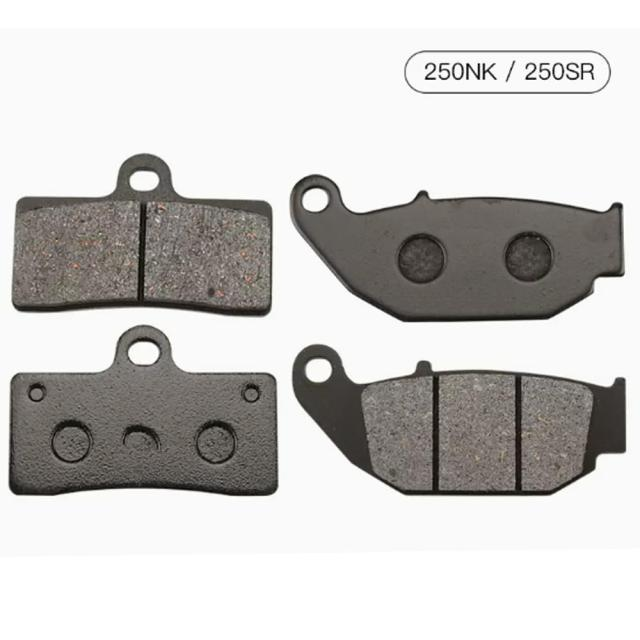brake_pad: (289, 178, 640, 336), (292, 340, 634, 502), (5, 331, 284, 499), (0, 180, 281, 316)
